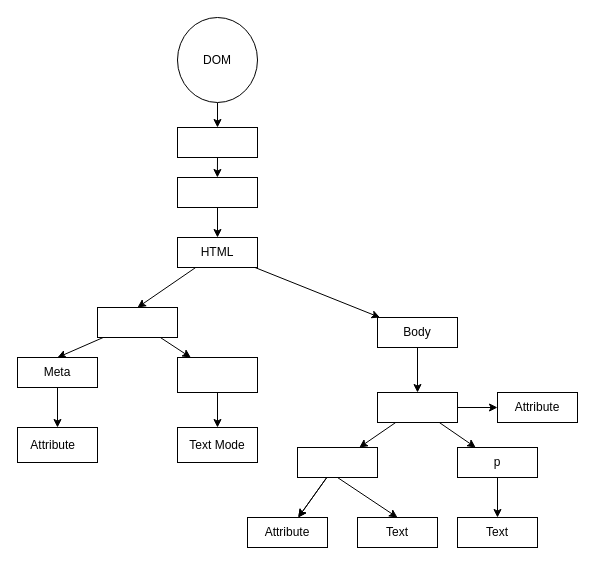
The diagram is 595 pixels wide and 565 high, and some of its shapes have lost their labels. The box of each missing label's shape, as (x1, y1, x2, y2) in pixels:
div: (376, 392, 458, 422)
Document: (176, 176, 258, 208)
h1: (296, 446, 378, 478)
Head: (96, 306, 178, 338)
Title: (176, 356, 258, 392)
window: (176, 126, 258, 158)
